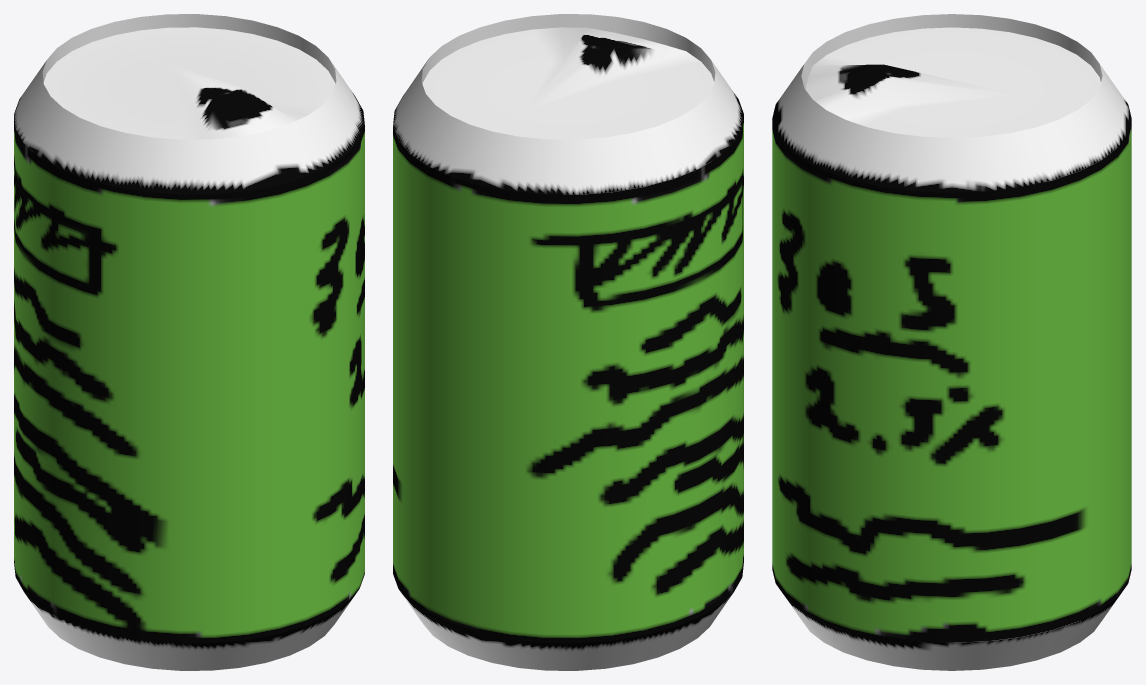
Rendered from beer.fbx.
3 views of the same model, side by side, from view 1: azimuth 30°, elevation 25°; view 2: azimuth 150°, elevation 25°; view 3: azimuth 270°, elevation 25° (orthographic).
Parts seen in each view (by area): view 1: Cylinder; view 2: Cylinder; view 3: Cylinder.
Part boxes in pixels (x1,y1,x2,y2): Cylinder: (14, 14, 364, 670); Cylinder: (393, 14, 743, 670); Cylinder: (772, 14, 1131, 670).
Bounding box in the file's own units: 37.71 × 36.72 × 62.36.
1 material, 1 textured.
